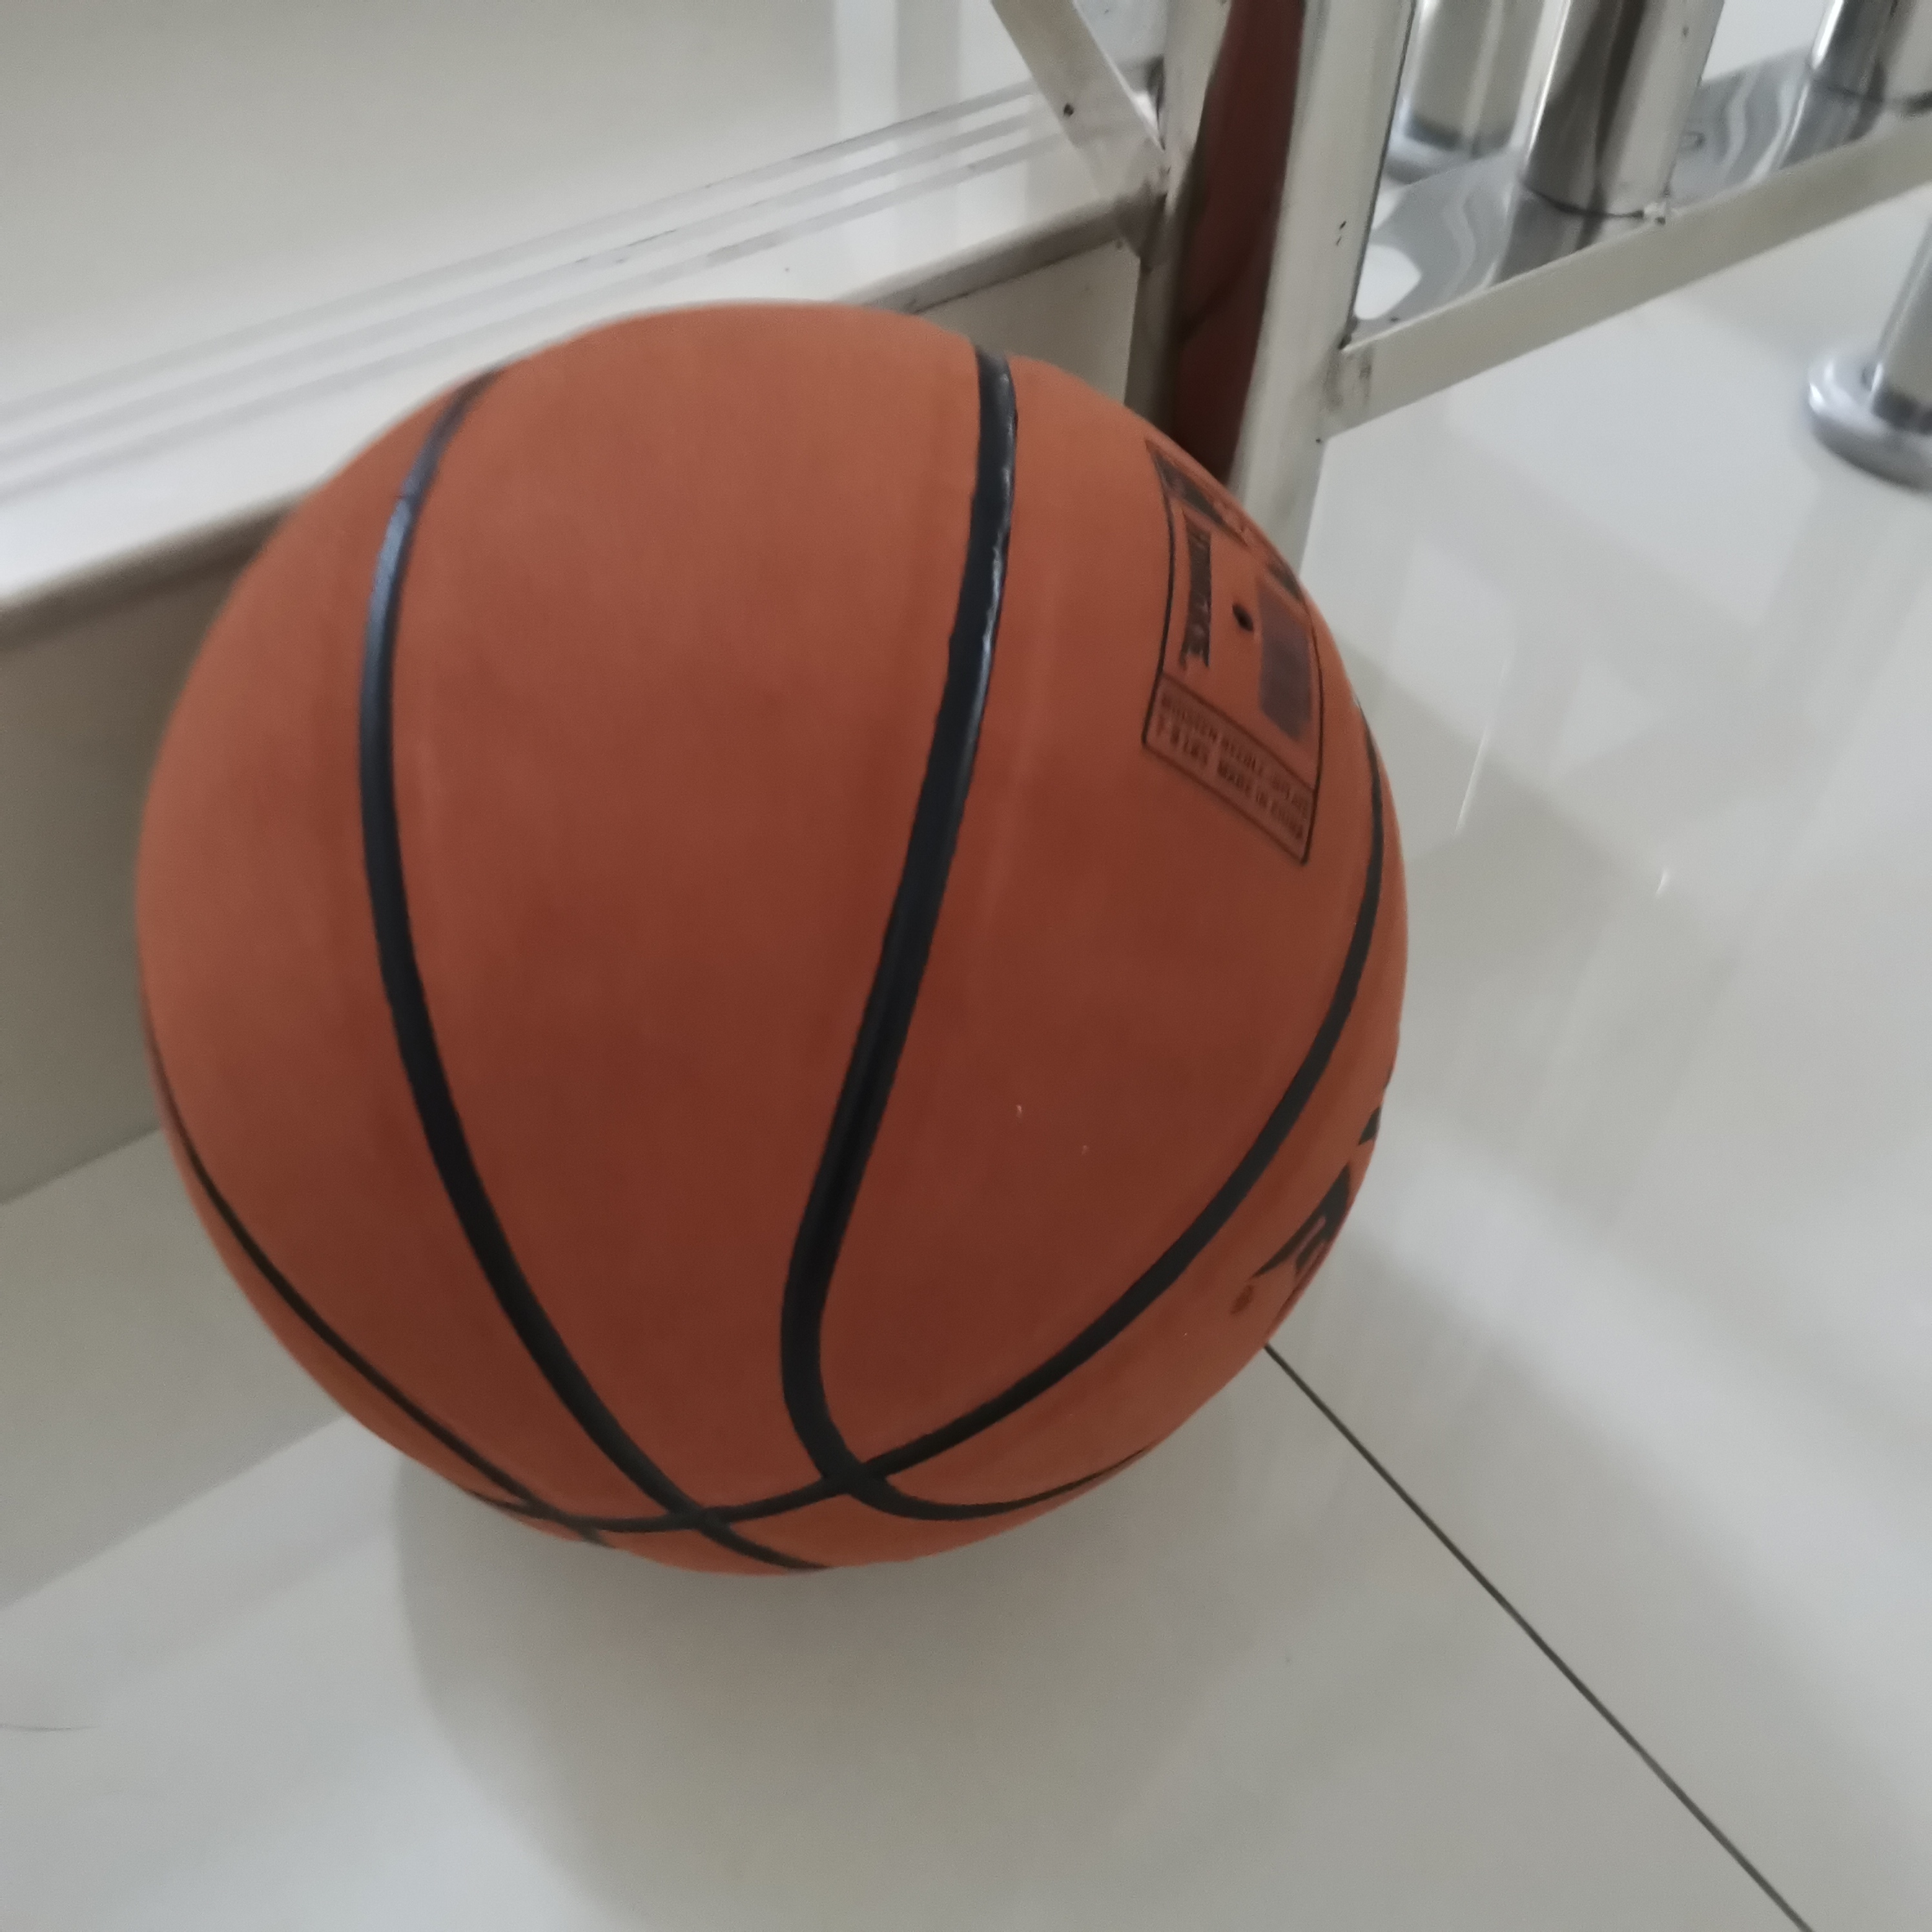basketball: (131, 301, 1415, 1576)
